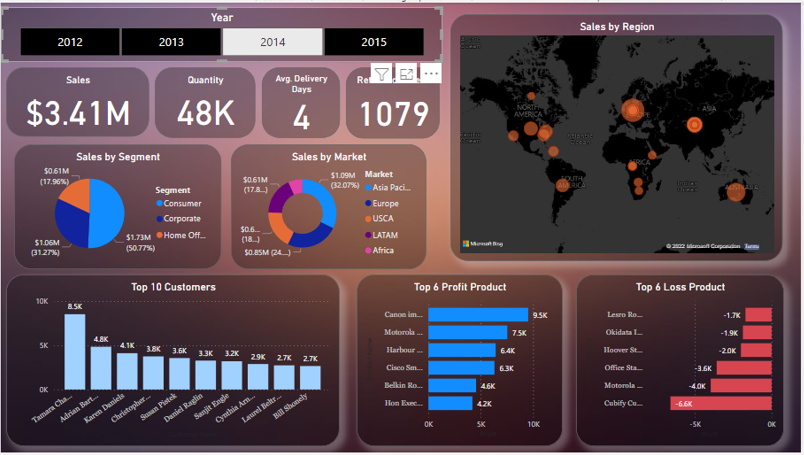

The dashboard page shown, as its layout file describes it:
{"tool":"powerbi","page":{"name":"Page 1","canvas":[1280,720],"ordinal":0},"visuals":[{"type":"card","title":"Sales","fields":{"Values":["Orders.Sales"]},"box":[8.3,102.8,229.2,111.1],"z":0},{"type":"card","title":"Quantity","fields":{"Values":["Orders.Quantity"]},"box":[247.2,102.8,161.1,112.5],"z":1000},{"type":"card","title":"Avg. Delivery Days","fields":{"Values":["Orders.Delivery Days"]},"box":[418.1,104.2,125,112.5],"z":2000},{"type":"slicer","title":"Year","fields":{"Values":["Orders.Year"]},"box":[0,6.9,706.9,87.5],"z":3000},{"type":"card","title":"Returned Orderd","fields":{"Values":["Returns.Return Orders"]},"box":[552.8,102.8,150,113.9],"z":4000},{"type":"map","fields":{"Size":["Orders.Sales"],"Category":["Orders.Region"]},"box":[720.6,18.5,532.5,394.8],"z":5000},{"type":"clusteredBarChart","title":"Top 6 Profit Product","fields":{"Category":["Orders.Product Name"],"Y":["Orders.Profit"]},"box":[569.8,435.1,330.2,275],"z":6000},{"type":"clusteredBarChart","title":"Top 6 Loss Product","fields":{"Category":["Orders.Product Name"],"Y":["Orders.Profit"]},"box":[921.3,435.1,333.1,275],"z":7000},{"type":"pieChart","fields":{"Category":["Orders.Segment"],"Y":["Orders.Sales"]},"box":[21.3,226.8,331.7,199.8],"z":8000},{"type":"donutChart","fields":{"Category":["Orders.Market"],"Y":["Orders.Sales"]},"box":[368.5,226.8,313.2,199.8],"z":9000},{"type":"columnChart","title":"Top 10 Customers","fields":{"Category":["Orders.Customer Name","Orders.Product Name"],"Y":["Orders.Profit"]},"box":[8.5,435.1,534.3,275],"z":10000}]}

Visuals, with their boxes in screenshot pixels (x1, y1, x2, y2), scaled from the page's 1280x720 canvas onto the 804x455 screenshot:
"Sales" card: [5,65,149,135]
"Quantity" card: [155,65,256,136]
"Avg. Delivery Days" card: [263,66,341,137]
"Year" slicer: [0,4,444,60]
"Returned Orderd" card: [347,65,441,137]
map - Orders.Sales x Orders.Region: [453,12,787,261]
"Top 6 Profit Product" clusteredBarChart: [358,275,565,449]
"Top 6 Loss Product" clusteredBarChart: [579,275,788,449]
pieChart - Orders.Segment x Orders.Sales: [13,143,222,270]
donutChart - Orders.Market x Orders.Sales: [231,143,428,270]
"Top 10 Customers" columnChart: [5,275,341,449]
